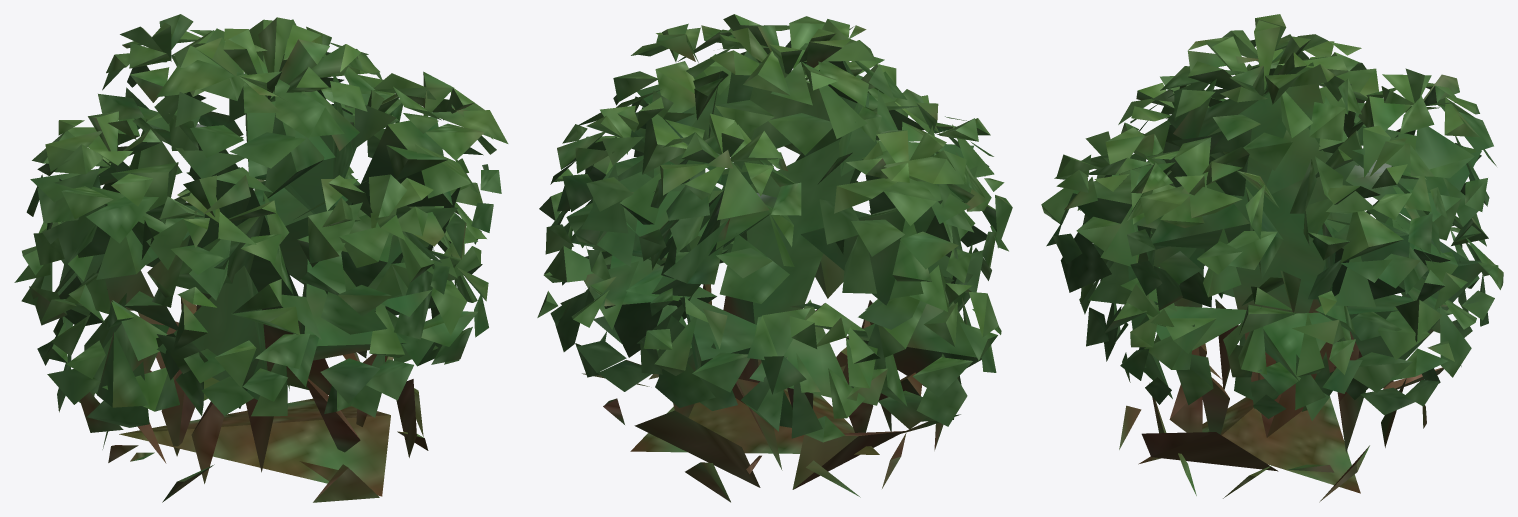
File: bush.glb
3 views of the same model, side by side, from view 1: azimuth 30°, elevation 25°; view 2: azimuth 150°, elevation 25°; view 3: azimuth 270°, elevation 25° (orthographic). The views are drawn at different scales.
Parts seen in each view (by area): view 1: Mesh; view 2: Mesh; view 3: Mesh.
Part boxes in pixels (<box>): Mesh: <box>14,14,508,502</box>; Mesh: <box>537,14,1012,502</box>; Mesh: <box>1041,14,1503,502</box>.
Size of the model in its own units: 1 by 0.9541 by 0.9919.
1 material, 1 textured.
